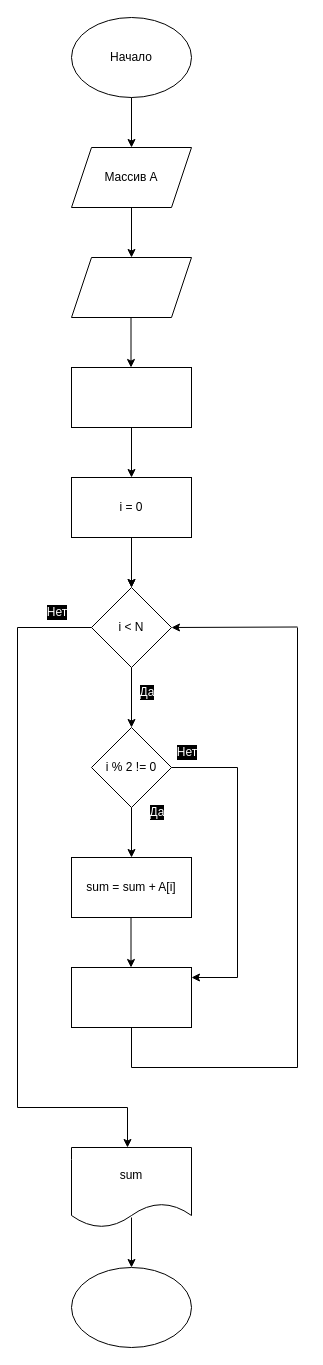
Some shapes in this 323 by 1365 pixel diagram are drawn without their labels. Each missing label, with the box of its shape:
i = i + 1: (70, 966, 192, 1028)
sum = 0: (70, 366, 192, 428)
Конец: (70, 1266, 192, 1348)
Размер N: (70, 256, 192, 318)
